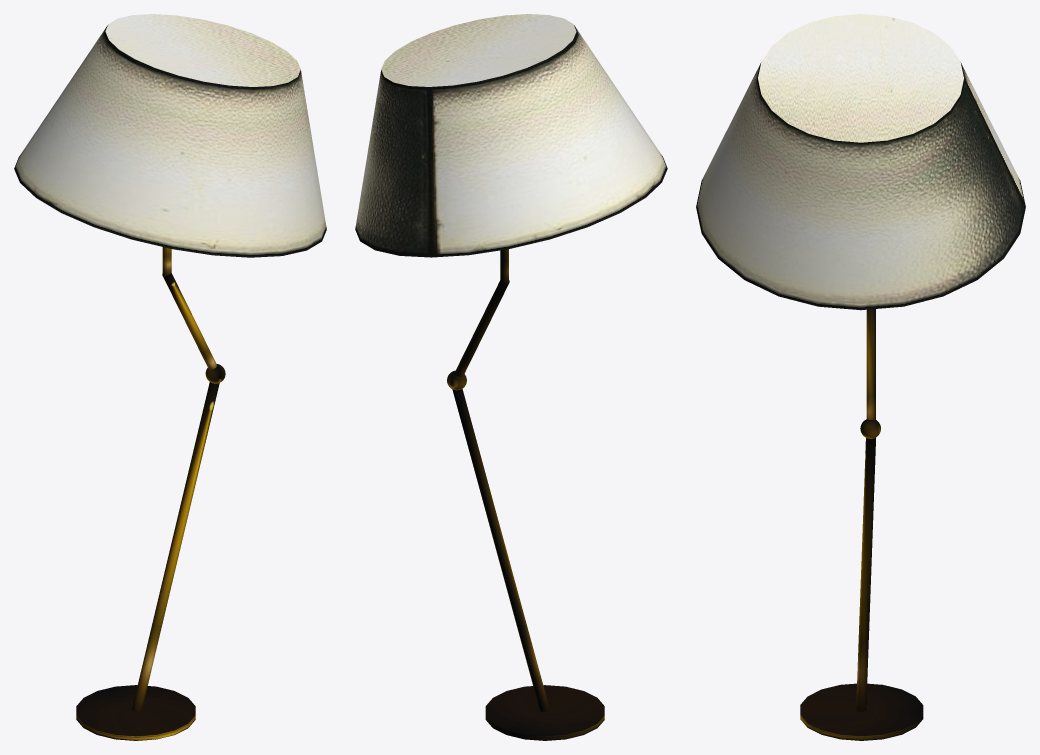
File: lampara.obj
3 renders of one model, left to right at view 1: azimuth 30°, elevation 25°; view 2: azimuth 150°, elevation 25°; view 3: azimuth 270°, elevation 25°, orthographic. The views are drawn at different scales.
Parts seen in each view (by area): view 1: Cone001, Cylinder001, Cylinder002, Cylinder003; view 2: Cone001, Cylinder001, Cylinder002, Cylinder003; view 3: Cone001, Cylinder001, Cylinder002, Cylinder003.
Boxes of the visible parts, x1=… form: Cone001: x1=14, y1=14, x2=326, y2=257; Cylinder001: x1=76, y1=685, x2=195, y2=740; Cylinder002: x1=132, y1=382, x2=219, y2=712; Cylinder003: x1=162, y1=273, x2=216, y2=369; Cone001: x1=355, y1=14, x2=667, y2=257; Cylinder001: x1=485, y1=685, x2=604, y2=740; Cylinder002: x1=452, y1=389, x2=549, y2=712; Cylinder003: x1=454, y1=280, x2=509, y2=376; Cone001: x1=696, y1=14, x2=1025, y2=310; Cylinder001: x1=800, y1=683, x2=923, y2=740; Cylinder002: x1=856, y1=437, x2=875, y2=711; Cylinder003: x1=866, y1=309, x2=875, y2=420.
Size of the model in its own units: 155 by 370 by 160.
Materials: 3 (3 with a texture image).
